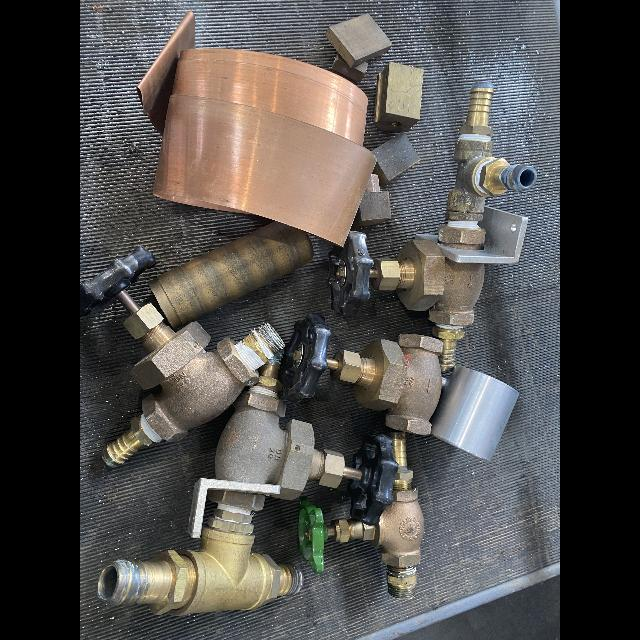Aluminium: (430, 366, 518, 460), (415, 206, 528, 264), (188, 478, 280, 539)
Brass: (115, 290, 260, 443), (98, 517, 304, 616), (150, 222, 313, 327), (327, 431, 424, 598), (215, 392, 362, 500), (326, 334, 444, 435), (369, 240, 484, 326), (445, 140, 537, 221), (326, 14, 392, 67), (375, 62, 423, 133), (102, 413, 156, 467), (459, 82, 494, 137), (253, 348, 284, 393), (208, 490, 265, 511), (438, 225, 485, 250), (332, 53, 367, 83), (241, 332, 269, 362), (257, 324, 284, 354), (214, 509, 252, 523), (292, 351, 301, 360), (305, 529, 311, 541), (336, 269, 343, 279)
Copper: (137, 11, 376, 245)
Ferrous Metal: (80, 247, 155, 316), (279, 313, 331, 402), (348, 434, 398, 525), (328, 231, 373, 318), (372, 133, 420, 186), (299, 498, 327, 573), (353, 174, 391, 228)
